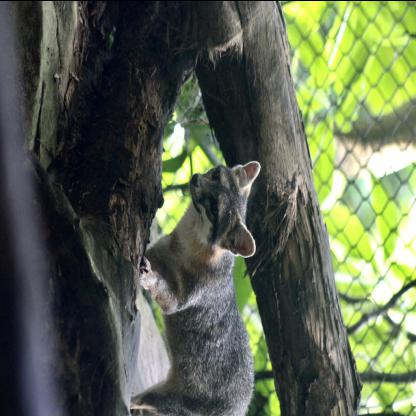zorro: (131, 155, 263, 415)
